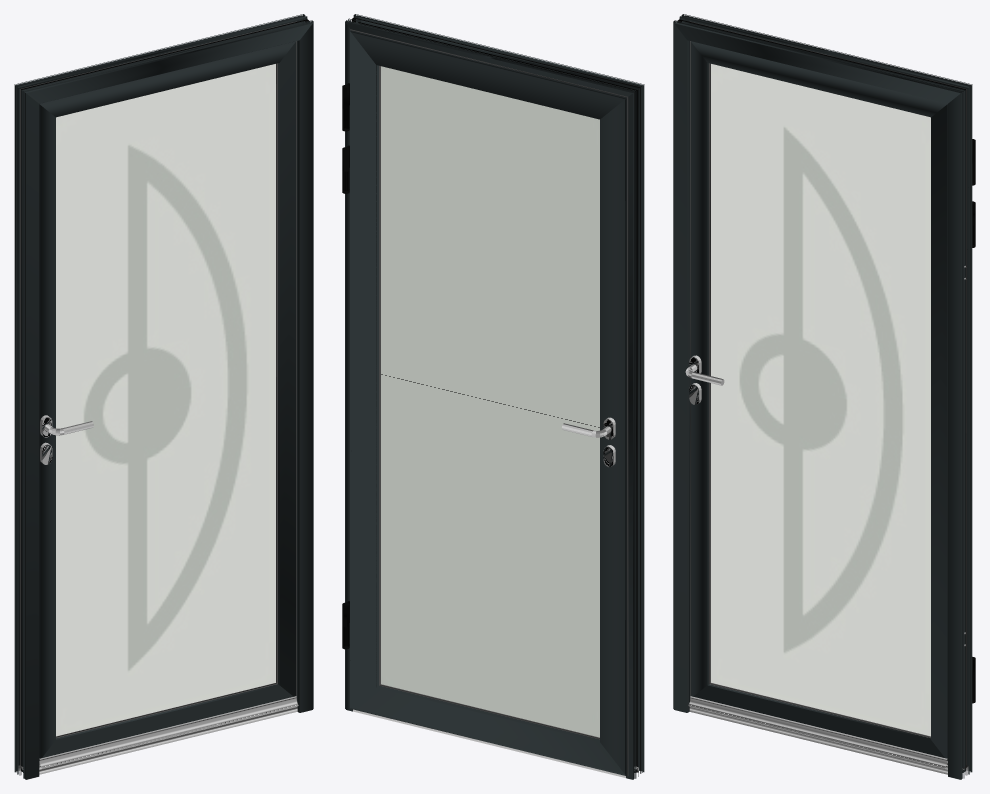
The picture shows the model from 3 angles, left to right: view 1: azimuth 30°, elevation 25°; view 2: azimuth 150°, elevation 25°; view 3: azimuth 330°, elevation 25°; orthographic projection.
Parts seen in each view (by area): view 1: ouvrant, 30_architect; view 2: ouvrant, 30_architect; view 3: ouvrant, 30_architect.
Part boxes in pixels (x1,y1,x2,y2): ouvrant: (20,21,298,768); 30_architect: (14,14,313,779); ouvrant: (342,29,628,776); 30_architect: (342,14,644,779); ouvrant: (688,21,975,768); 30_architect: (673,14,975,779).
Bounding box in the file's own units: 96 × 218 × 20.21.
1 material, 1 textured.
